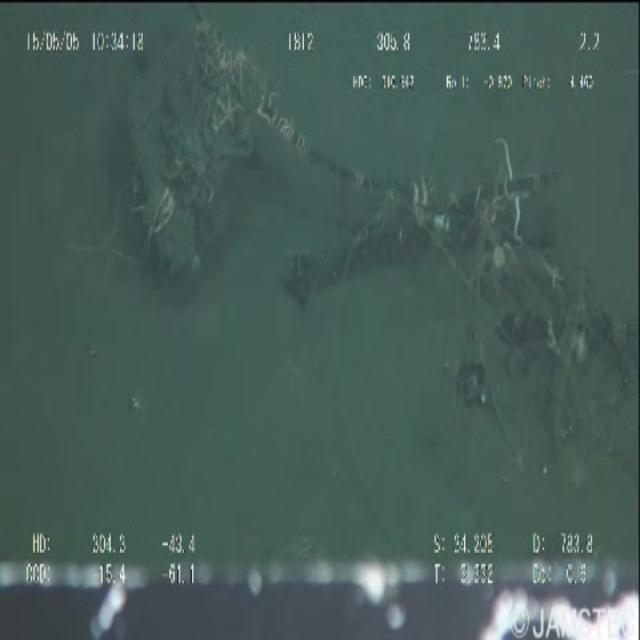Metal: (119, 2, 560, 270), (464, 300, 633, 402)
